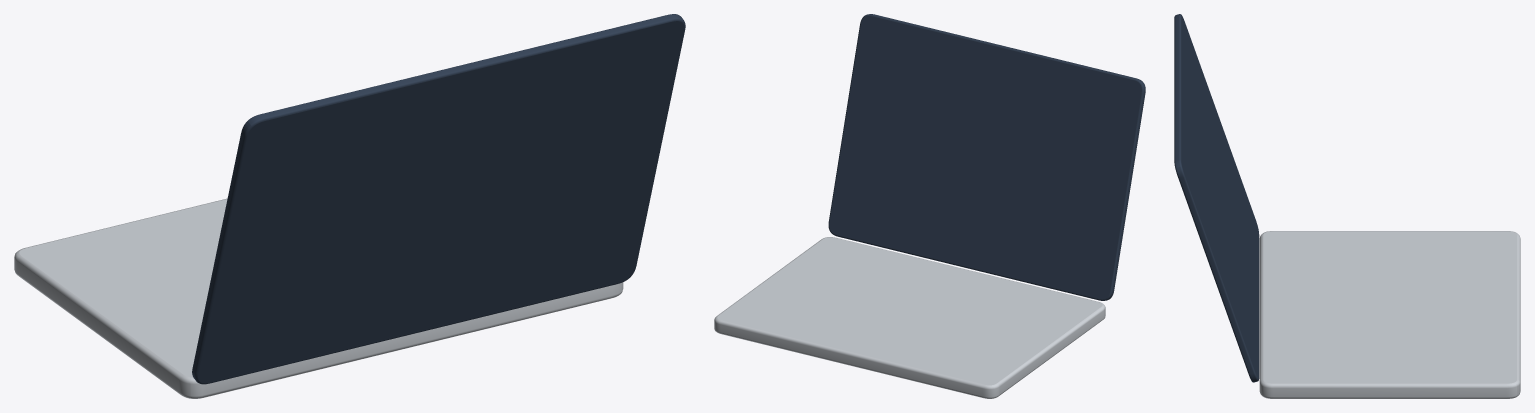
File: laptop.glb
3 renders of one model, left to right at view 1: azimuth 30°, elevation 25°; view 2: azimuth 150°, elevation 25°; view 3: azimuth 270°, elevation 25°, orthographic. The views are drawn at different scales.
Visible parts, largest first — view 1: Lid, Base; view 2: Lid, Base; view 3: Base, Lid.
Boxes of the visible parts, x1=… form: Lid: x1=192, y1=14, x2=685, y2=384; Base: x1=14, y1=198, x2=623, y2=398; Lid: x1=828, y1=14, x2=1145, y2=300; Base: x1=714, y1=237, x2=1105, y2=398; Base: x1=1259, y1=231, x2=1520, y2=398; Lid: x1=1174, y1=14, x2=1259, y2=382.
Size of the model in its own units: 0.31 by 0.2186 by 0.2919.
